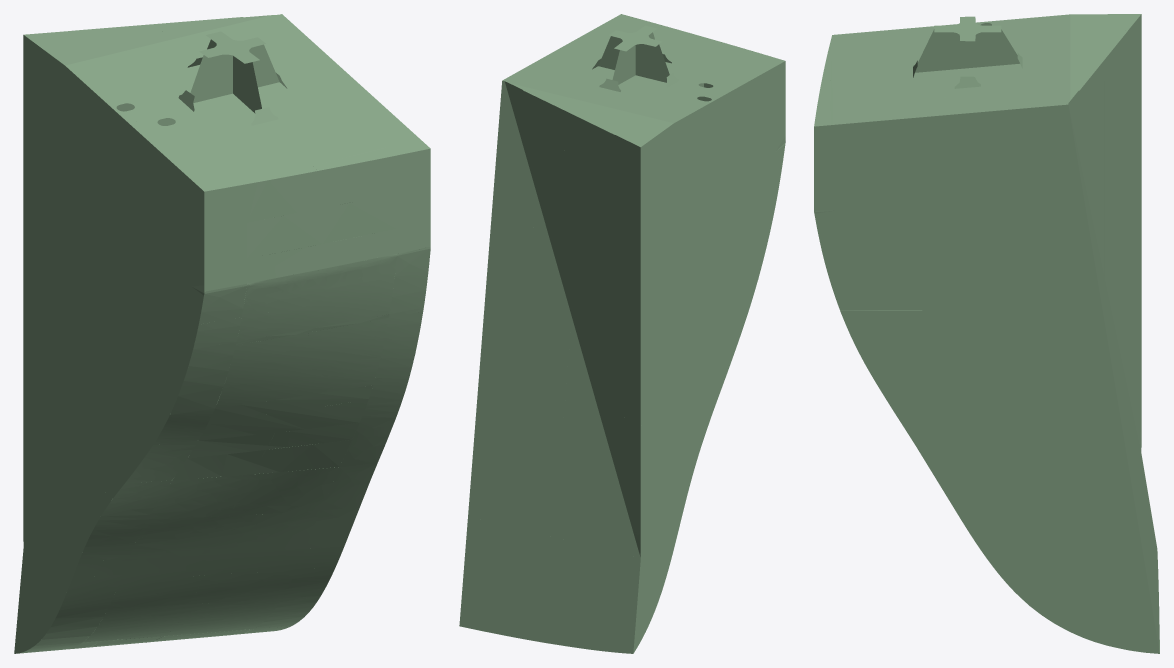
Rendered from CLEAN_SLOP_TK_SB.glb.
3 renders of one model, left to right at view 1: azimuth 30°, elevation 25°; view 2: azimuth 150°, elevation 25°; view 3: azimuth 270°, elevation 25°, orthographic. The views are drawn at different scales.
Parts seen in each view (by area): view 1: PL_OuterShellxSlopTankS_011005-17_NVA32_1993, PL_OuterShellxSlopTankS_006002-17_NVA32_1993, PL_SideTransBHDxBHD51S_009003-14_NVA_1993, PL_OuterShellxSlopTankS_014002-17_NVA32_1993, PL_OuterShellxSlopTankS_010002-17_NVA32_1993, PL_SideTransBHDxBHD51S_010002-14_NVA32_1993, PL_OuterShellxSlopTankS_013005-17_NVA32_1993, PL_SideTransBHDxBHD51S_006002-15.5_NVA32_1993, PL_OuterShellxSlopTankS_012004-17_NVA32_1993, PL_OuterShellxSlopTankS_007002-17_NVA32_1993, PL_OuterShellxSlopTankS_003002-17.5_NVA32_1993, PL_UDxSlopTankS_011001-15_NVA32_1993 (+79 smaller); view 2: PL_LBHDxNo6CenterTankS_038002-20.5_NVA32_1993, PL_LBHDxNo6CenterTankS_028002-17_NVA32_1993, PL_LBHDxNo6CenterTankS_044002-23_NVA32_1993, PL_SideTransBHDxBHD51S_009003-14_NVA_1993, PL_LBHDxNo6CenterTankS_024005-17.5_NVA32_1993, PL_SideTransBHDxBHD51S_010002-14_NVA32_1993, PL_SideTransBHDxBHD51S_006002-15.5_NVA32_1993, PL_LBHDxNo6CenterTankS_013005-16_NVA32_1993, PL_SideTransBHDxBHD51S_004002-17_NVA32_1993, PL_LBHDxNo6CenterTankS_008002-15_NVA32_1993, PL_SideTransBHDxBHD51S_015004-13.5_NVA_1993, PL_LBHDxNo6CenterTankS_017002-17.5_NVA32_1993 (+86 smaller); view 3: PL_SideTransBHDxBHD53S_004001-17_NVA32_1993, PL_SideTransBHDxBHD53S_002002-18.5_NVA32_1993, PL_SideTransBHDxBHD53S_007001-14.5_NVA32_1993, PL_SideTransBHDxBHD53S_001001-19.5_NVA32_1993, PL_SideTransBHDxBHD53S_003001-17_NVA32_1993, PL_SideTransBHDxBHD53S_008001-14.5_NVA32_1993, PL_SideTransBHDxBHD53S_009003-14_NVA_1993, PL_SideTransBHDxBHD53S_009001-14_NVA_1993, PL_SideTransBHDxBHD53S_014001-13.5_NVA_1993, PL_SideTransBHDxBHD53S_013002-13.5_NVA_1993, PL_SideTransBHDxBHD53S_016002-13.5_NVA_1993, PL_SideTransBHDxBHD53S_015005-13.5_NVA_1993 (+55 smaller).
Part boxes in pixels (<box>): PL_OuterShellxSlopTankS_011005-17_NVA32_1993: <box>215,318,388,408</box>; PL_OuterShellxSlopTankS_006002-17_NVA32_1993: <box>236,254,396,341</box>; PL_SideTransBHDxBHD51S_009003-14_NVA_1993: <box>103,249,199,390</box>; PL_OuterShellxSlopTankS_014002-17_NVA32_1993: <box>147,467,339,519</box>; PL_OuterShellxSlopTankS_010002-17_NVA32_1993: <box>129,510,320,558</box>; PL_SideTransBHDxBHD51S_010002-14_NVA32_1993: <box>23,191,91,325</box>; PL_OuterShellxSlopTankS_013005-17_NVA32_1993: <box>108,564,298,608</box>; PL_SideTransBHDxBHD51S_006002-15.5_NVA32_1993: <box>23,352,91,481</box>; PL_OuterShellxSlopTankS_012004-17_NVA32_1993: <box>247,193,396,258</box>; PL_OuterShellxSlopTankS_007002-17_NVA32_1993: <box>199,385,373,440</box>; PL_OuterShellxSlopTankS_003002-17.5_NVA32_1993: <box>83,598,281,642</box>; PL_UDxSlopTankS_011001-15_NVA32_1993: <box>202,108,374,171</box>; PL_LBHDxNo6CenterTankS_038002-20.5_NVA32_1993: <box>485,564,605,650</box>; PL_LBHDxNo6CenterTankS_028002-17_NVA32_1993: <box>496,425,593,521</box>; PL_LBHDxNo6CenterTankS_044002-23_NVA32_1993: <box>523,91,614,194</box>; PL_SideTransBHDxBHD51S_009003-14_NVA_1993: <box>704,169,781,293</box>; PL_LBHDxNo6CenterTankS_024005-17.5_NVA32_1993: <box>491,517,586,586</box>; PL_SideTransBHDxBHD51S_010002-14_NVA32_1993: <box>640,233,694,340</box>; PL_SideTransBHDxBHD51S_006002-15.5_NVA32_1993: <box>640,362,694,465</box>; PL_LBHDxNo6CenterTankS_013005-16_NVA32_1993: <box>501,378,570,440</box>; PL_SideTransBHDxBHD51S_004002-17_NVA32_1993: <box>640,426,694,536</box>; PL_LBHDxNo6CenterTankS_008002-15_NVA32_1993: <box>507,289,551,365</box>; PL_SideTransBHDxBHD51S_015004-13.5_NVA_1993: <box>662,106,704,192</box>; PL_LBHDxNo6CenterTankS_017002-17.5_NVA32_1993: <box>560,187,614,259</box>; PL_SideTransBHDxBHD53S_004001-17_NVA32_1993: <box>1022,444,1137,519</box>; PL_SideTransBHDxBHD53S_002002-18.5_NVA32_1993: <box>973,537,1147,584</box>; PL_SideTransBHDxBHD53S_007001-14.5_NVA32_1993: <box>840,310,967,375</box>; PL_SideTransBHDxBHD53S_001001-19.5_NVA32_1993: <box>1008,584,1159,653</box>; PL_SideTransBHDxBHD53S_003001-17_NVA32_1993: <box>915,444,1022,519</box>; PL_SideTransBHDxBHD53S_008001-14.5_NVA32_1993: <box>1022,310,1113,375</box>; PL_SideTransBHDxBHD53S_009003-14_NVA_1993: <box>827,270,967,310</box>; PL_SideTransBHDxBHD53S_009001-14_NVA_1993: <box>819,237,967,270</box>; PL_SideTransBHDxBHD53S_014001-13.5_NVA_1993: <box>858,115,949,169</box>; PL_SideTransBHDxBHD53S_013002-13.5_NVA_1993: <box>858,189,949,237</box>; PL_SideTransBHDxBHD53S_016002-13.5_NVA_1993: <box>1005,104,1079,169</box>; PL_SideTransBHDxBHD53S_015005-13.5_NVA_1993: <box>1005,189,1090,237</box>.
Bounding box in the file's own units: 10.48 × 31.47 × 17.01.
